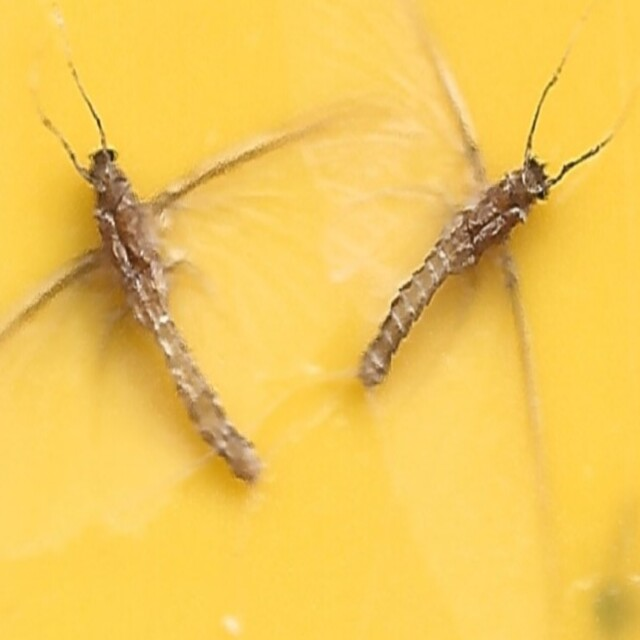Ephemeroptera: (87, 141, 267, 499), (356, 156, 553, 398)
